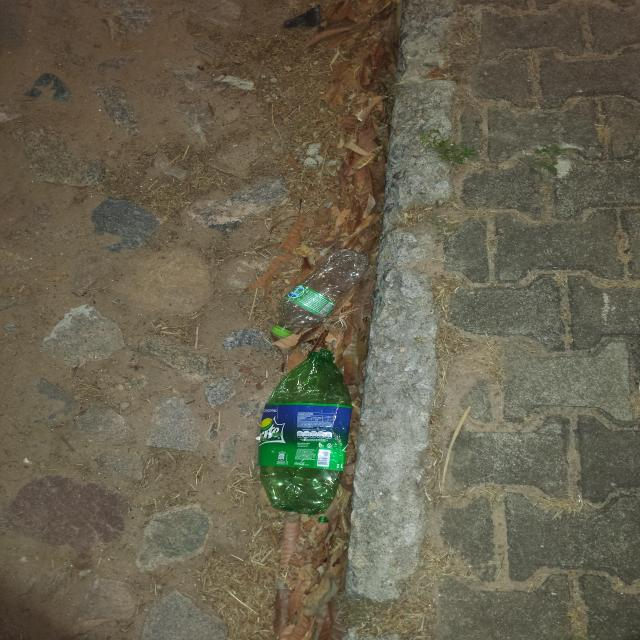litter: (258, 348, 353, 512), (268, 249, 367, 341)
